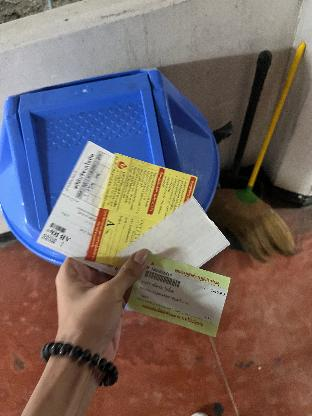Paper: (36, 136, 140, 284), (88, 150, 198, 274), (113, 198, 230, 286), (115, 255, 235, 331)
